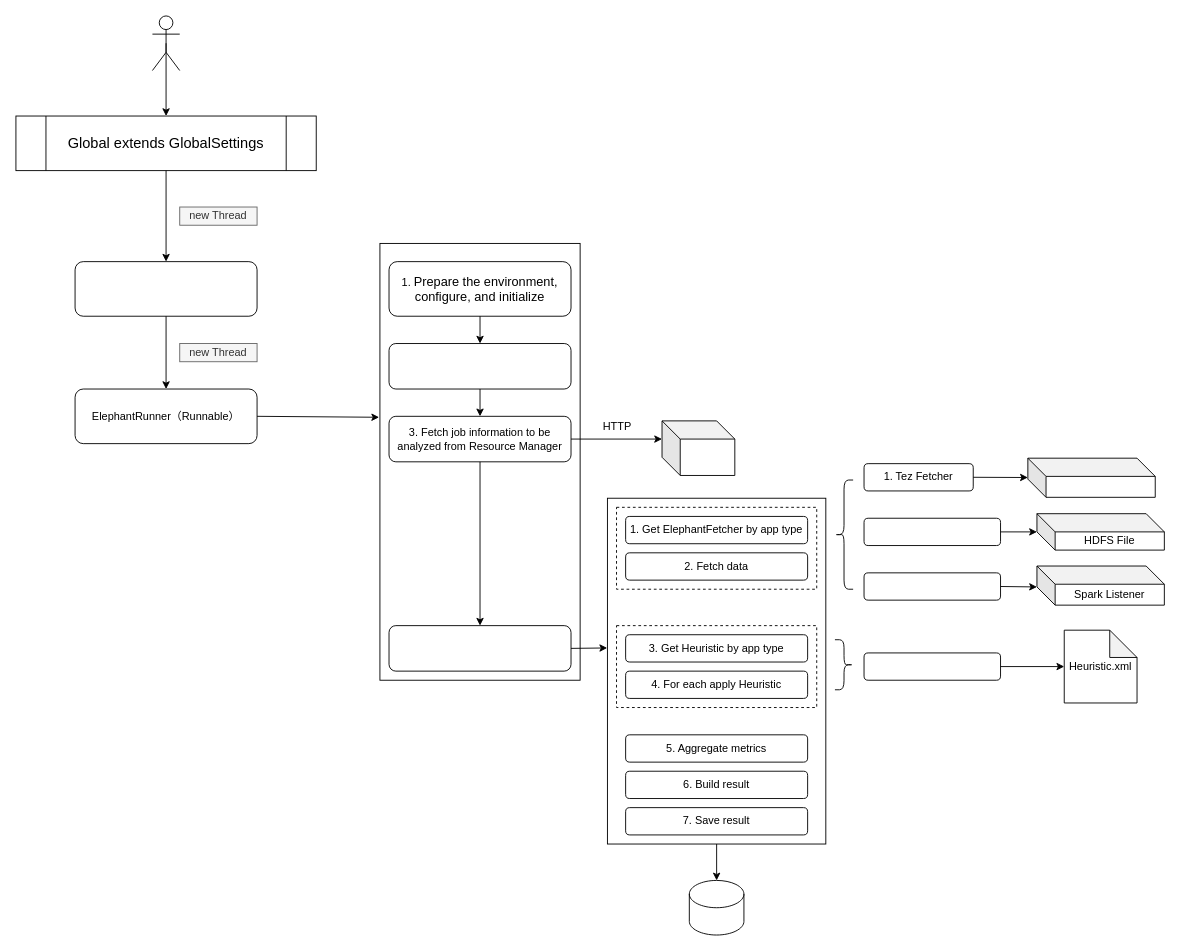
Some shapes in this 1180 by 951 pixel diagram are drawn without their labels. Here are the shapes that lost their labels. From the top down, the centre of each, then its label:
At [165,288]: "DrElephant（ Singleton ）".
At [479,366]: "2. ThreadPoolExecutor and while true".
At [698,447]: "Yarn".
At [1091,477]: "Yarn Timeline server".
At [932,531]: "2. Mapreduce Fetcher".
At [932,586]: "3. Spark Fetcher".
At [479,648]: "4. Send thread to analyze ExecutorJob".
At [932,666]: "Load Heuristic by xml".
At [716,907]: "Mysql".
